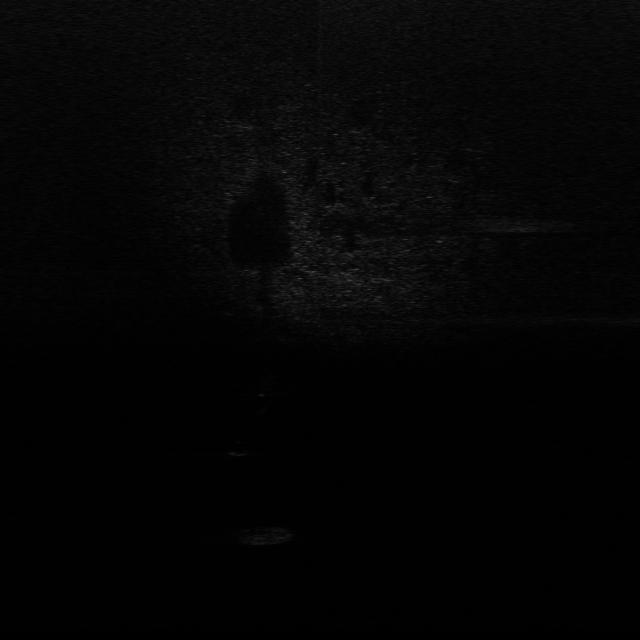ball: (226, 438, 254, 458)
circle cage: (241, 524, 298, 546)
human body: (256, 370, 276, 414)
